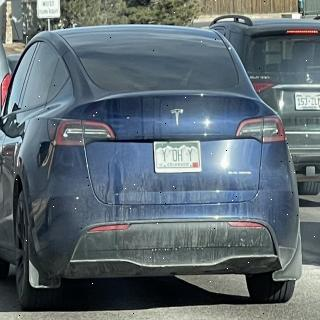license: (154, 141, 203, 175)
